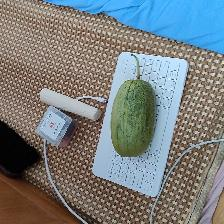gua: (108, 81, 154, 159)
